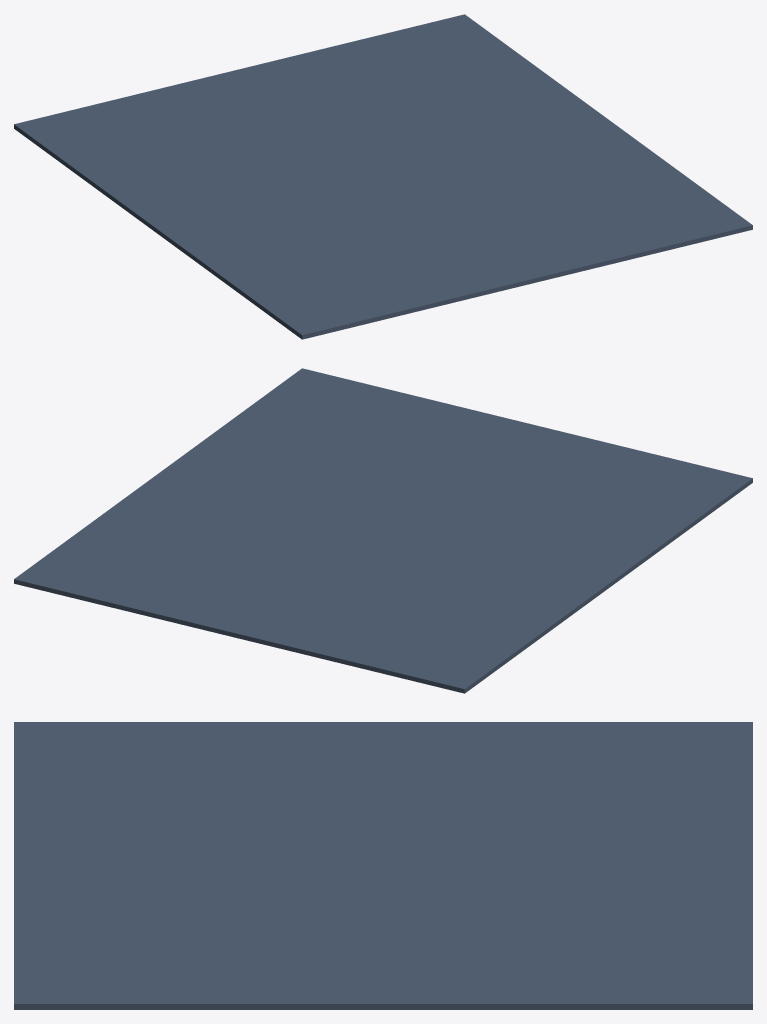
The model's file is floor_004_u_emergency_raspredelitelnyy_holl_person_floor.obj.
The picture shows the model from 3 angles, top to bottom: view 1: azimuth 30°, elevation 25°; view 2: azimuth 150°, elevation 25°; view 3: azimuth 270°, elevation 25°; orthographic projection. The views are drawn at different scales.
Parts seen in each view (by area): view 1: Floor_004_u_emergency_raspredelitelnyy_holl_person_floor; view 2: Floor_004_u_emergency_raspredelitelnyy_holl_person_floor; view 3: Floor_004_u_emergency_raspredelitelnyy_holl_person_floor.
Part boxes in pixels (x1,y1,x2,y2): Floor_004_u_emergency_raspredelitelnyy_holl_person_floor: (14,14,752,339); Floor_004_u_emergency_raspredelitelnyy_holl_person_floor: (14,368,752,693); Floor_004_u_emergency_raspredelitelnyy_holl_person_floor: (14,722,752,1009).
Bounding box in the file's own units: 21.11 × 0.2 × 23.38.
